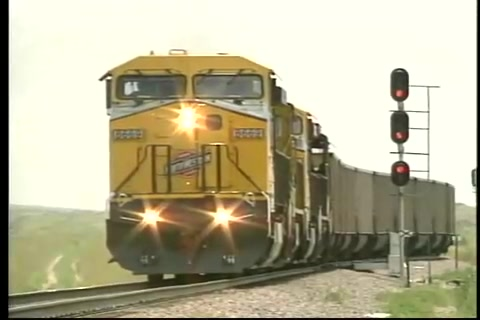train: (101, 49, 458, 285)
